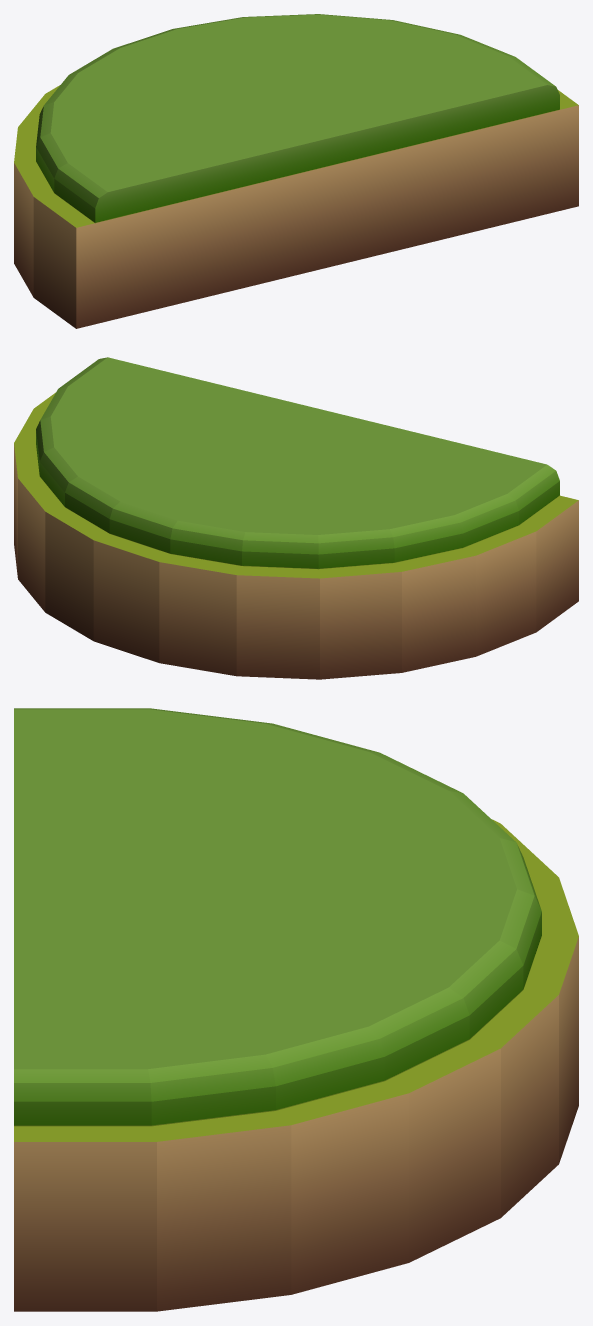
The model's file is Round_Corner_Grass.fbx.
3 views of the same model, one above another, from view 1: azimuth 30°, elevation 25°; view 2: azimuth 150°, elevation 25°; view 3: azimuth 270°, elevation 25° (orthographic). The views are drawn at different scales.
Parts seen in each view (by area): view 1: Round_Corner_Grass; view 2: Round_Corner_Grass; view 3: Round_Corner_Grass.
Part boxes in pixels (<box>): Round_Corner_Grass: <box>14,14,578,328</box>; Round_Corner_Grass: <box>14,357,578,679</box>; Round_Corner_Grass: <box>14,708,578,1311</box>.
Size of the model in its own units: 199 by 48.84 by 115.
